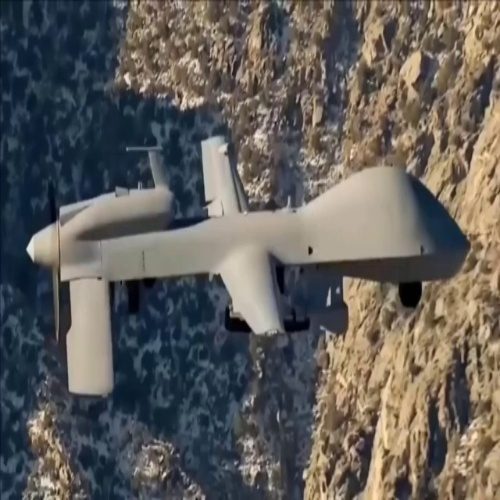uav813: (22, 134, 476, 396)
